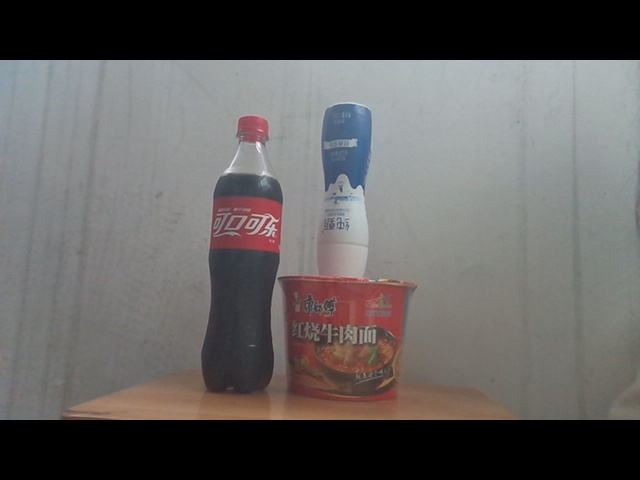cola: (201, 115, 284, 392)
kangshifu: (277, 275, 418, 401)
yogurt: (316, 101, 371, 279)
